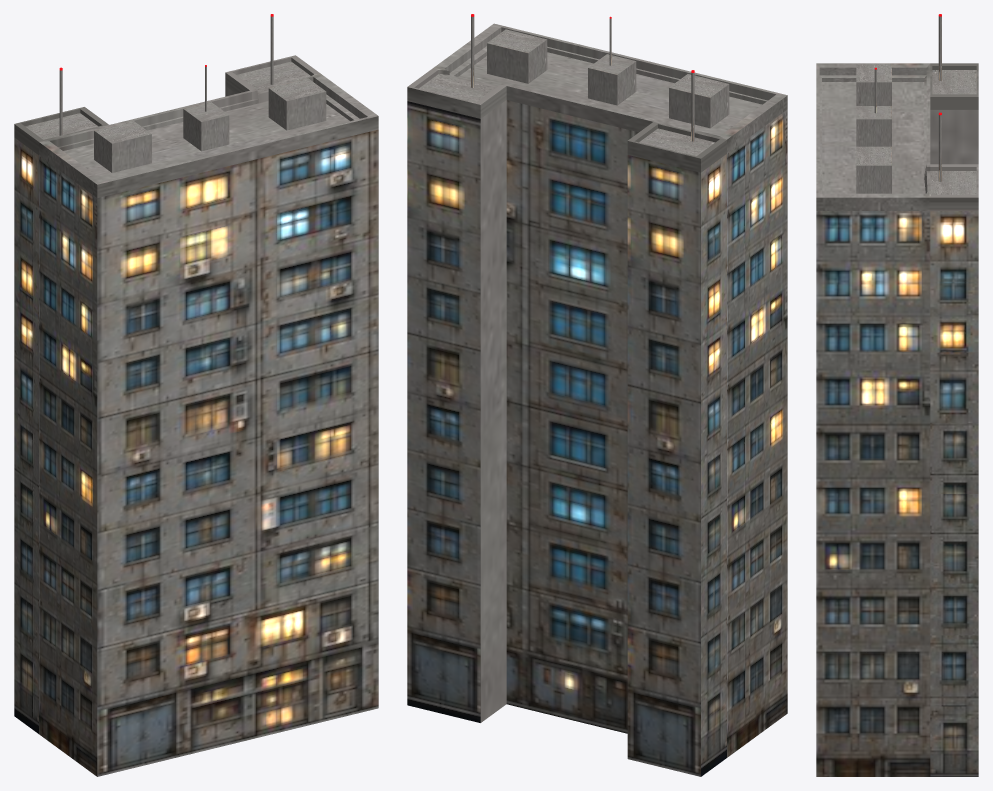
Rendered from cyberpunk-residential-building-6.glb.
3 renders of one model, left to right at view 1: azimuth 30°, elevation 25°; view 2: azimuth 150°, elevation 25°; view 3: azimuth 270°, elevation 25°, orthographic. The views are drawn at different scales.
Parts seen in each view (by area): view 1: cyberpunk-residential-building-6; view 2: cyberpunk-residential-building-6; view 3: cyberpunk-residential-building-6.
Part boxes in pixels (box(x1,y1,x2,y2)): cyberpunk-residential-building-6: box(14, 14, 378, 776); cyberpunk-residential-building-6: box(407, 14, 787, 776); cyberpunk-residential-building-6: box(816, 14, 978, 776).
Size of the model in its own units: 46.75 by 104 by 23.91.
Materials: 2 (1 with a texture image).
